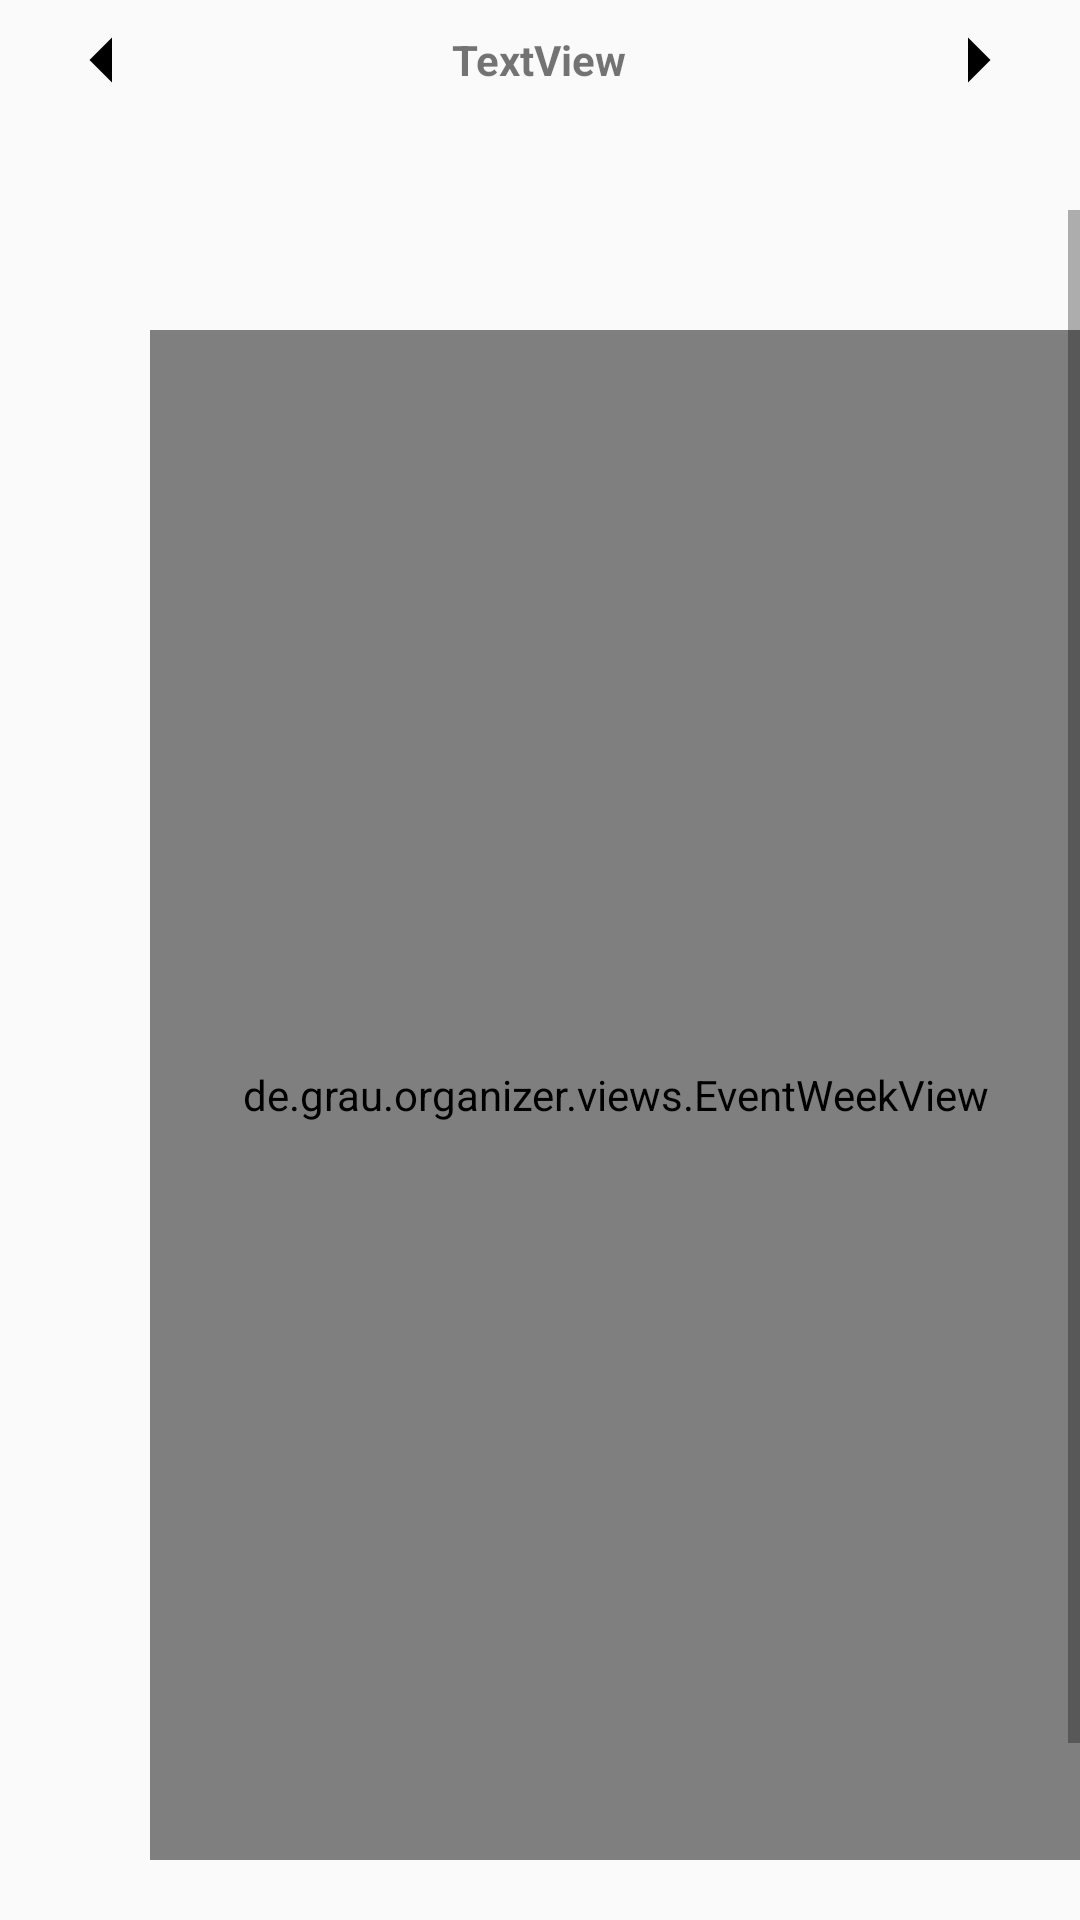

Icon bounding boxes for this 1080w x 1920h phone screenshot, format box(x1, y1, x2, y2):
arrow back: box(89, 37, 112, 83)
arrow forward: box(968, 37, 991, 83)
